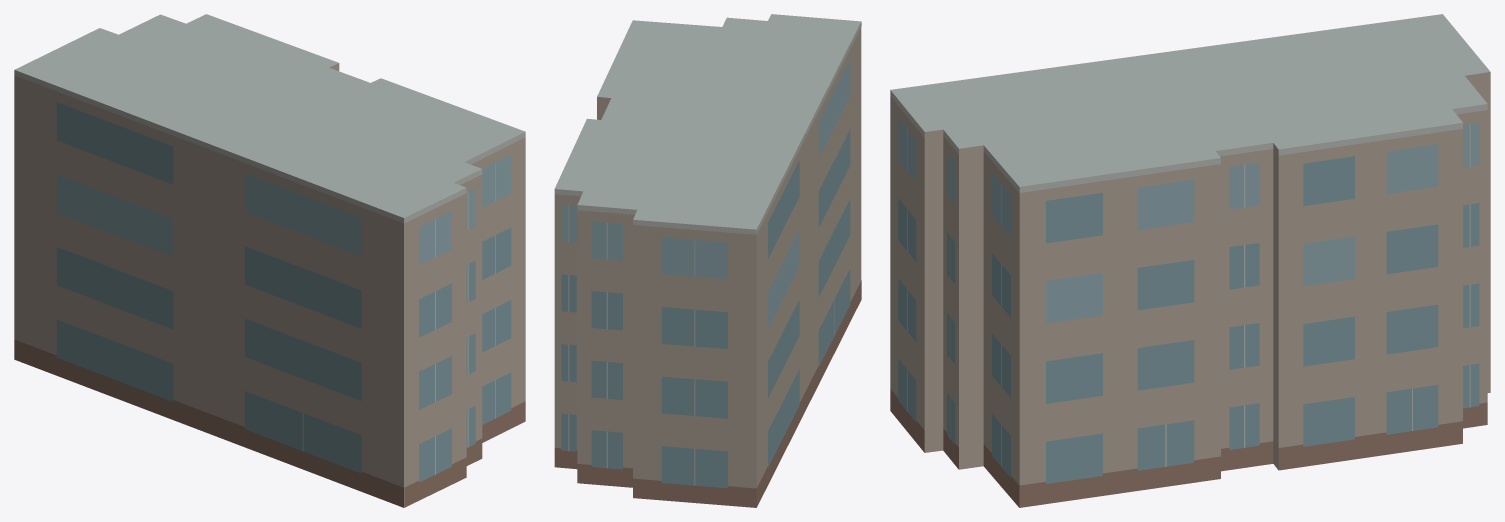
Rendered from survey-upis-32921307.glb.
3 views of the same model, side by side, from view 1: azimuth 30°, elevation 25°; view 2: azimuth 150°, elevation 25°; view 3: azimuth 270°, elevation 25° (orthographic). The views are drawn at different scales.
Visible parts, largest first — view 1: survey-upis-32921307.tmp; view 2: survey-upis-32921307.tmp; view 3: survey-upis-32921307.tmp.
Boxes of the visible parts, x1,y1,x2,y2 form: survey-upis-32921307.tmp: (14, 14, 525, 507); survey-upis-32921307.tmp: (554, 14, 861, 507); survey-upis-32921307.tmp: (890, 14, 1490, 507).
Bounding box in the file's own units: 14.96 × 12.93 × 21.93.
